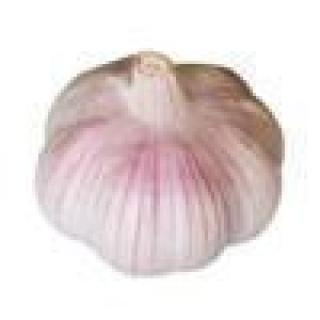Bawang Putih: (33, 56, 305, 277)
